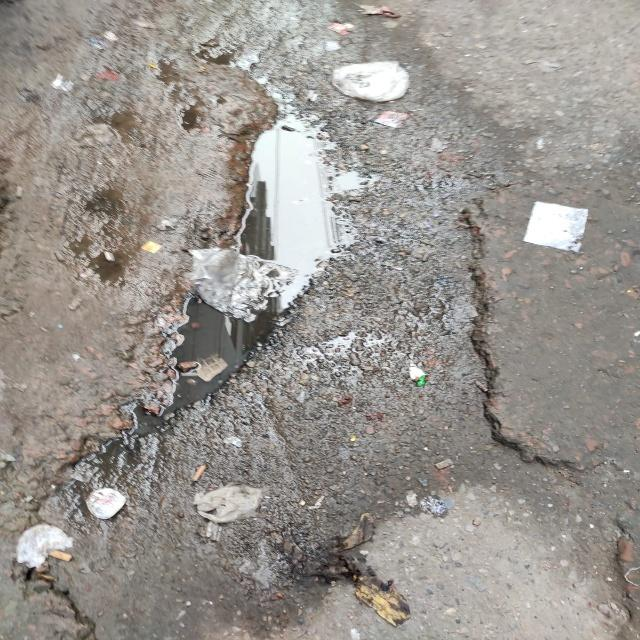Pothole: (176, 123, 325, 360), (329, 58, 416, 100)
Surface Erosion: (18, 0, 640, 640)
